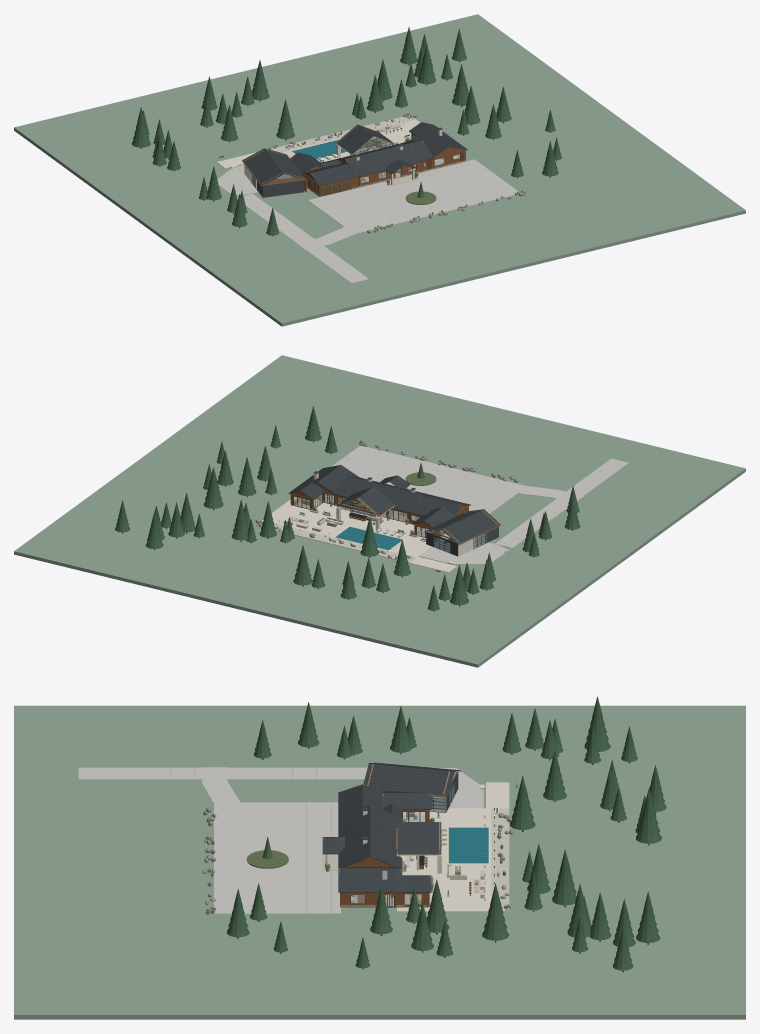
The model's file is DreamHouse.glb.
The picture shows the model from 3 angles, top to bottom: view 1: azimuth 30°, elevation 25°; view 2: azimuth 150°, elevation 25°; view 3: azimuth 270°, elevation 25°; orthographic projection. The views are drawn at different scales.
Visible parts, largest first — view 1: Ground, Arrival court, Roof main_0, V12 | angled shop charcoal roof slope -1, V12 | left side wraparound driveway 00, V12 | courtyard continuous edge, Roof garage_0, Roof suite_0, V15 | Continuous angled workshop turning and garage apron, V12 | monumental graphite gable roof -1, V15 | Main arrival-to-west driveway connection, V12 | workshop dark south wall; view 2: Ground, Arrival court, V12 | courtyard level slab at building, V13 | Main roof central rear eave trimmed for vaulted patio, V12 | angled shop charcoal roof slope -1, V15 | Continuous angled workshop turning and garage apron, V12 | courtyard level surround east, V12 | left side wraparound driveway 00, V12 | courtyard continuous edge, Roof suite_0, V12 | extended pool surface, V12 | monumental graphite gable roof -1 (+1 smaller); view 3: Ground, Arrival court, V12 | angled shop charcoal roof slope 1, V12 | courtyard level surround east, Roof main_0, V12 | left side wraparound driveway 00, V12 | courtyard continuous edge, Roof suite_0, V13 | Main roof central rear eave trimmed for vaulted patio, V12 | courtyard level slab at building, V12 | monumental graphite gable roof 1, V12 | extended pool surface (+11 smaller).
Part boxes in pixels (x1,y1,x2,y2): Ground: (14, 14, 745, 326); Arrival court: (307, 159, 518, 233); Roof main_0: (345, 140, 433, 177); V12 | angled shop charcoal roof slope -1: (242, 149, 283, 185); V12 | left side wraparound driveway 00: (308, 247, 368, 283); V12 | courtyard continuous edge: (255, 116, 415, 152); Roof garage_0: (303, 163, 356, 186); Roof suite_0: (408, 129, 467, 158); V15 | Continuous angled workshop turning and garage apron: (217, 164, 250, 193); V12 | monumental graphite gable roof -1: (336, 124, 373, 154); V15 | Main arrival-to-west driveway connection: (296, 227, 355, 250); V12 | workshop dark south wall: (263, 180, 303, 197); Ground: (14, 355, 745, 667); Arrival court: (332, 445, 526, 513); V12 | courtyard level slab at building: (279, 497, 447, 544); V13 | Main roof central rear eave trimmed for vaulted patio: (333, 476, 421, 512); V12 | angled shop charcoal roof slope -1: (441, 509, 500, 544); V15 | Continuous angled workshop turning and garage apron: (419, 546, 505, 564); V12 | courtyard level surround east: (262, 508, 348, 537); V12 | left side wraparound driveway 00: (568, 458, 628, 494); V12 | courtyard continuous edge: (255, 520, 415, 563); Roof suite_0: (302, 465, 358, 494); V12 | extended pool surface: (336, 527, 401, 550); V12 | monumental graphite gable roof -1: (358, 486, 394, 516); Ground: (14, 705, 745, 1019); Arrival court: (214, 802, 340, 913); V12 | angled shop charcoal roof slope 1: (363, 764, 454, 796); V12 | courtyard level surround east: (446, 864, 491, 911); Roof main_0: (338, 805, 370, 867); V12 | left side wraparound driveway 00: (78, 767, 198, 779); V12 | courtyard continuous edge: (491, 808, 509, 911); Roof suite_0: (338, 867, 402, 892); V13 | Main roof central rear eave trimmed for vaulted patio: (370, 805, 402, 867); V12 | courtyard level slab at building: (397, 811, 446, 911); V12 | monumental graphite gable roof 1: (397, 822, 441, 854); V12 | extended pool surface: (449, 828, 488, 863).
Bounding box in the file's own units: 150 × 14.63 × 150.
